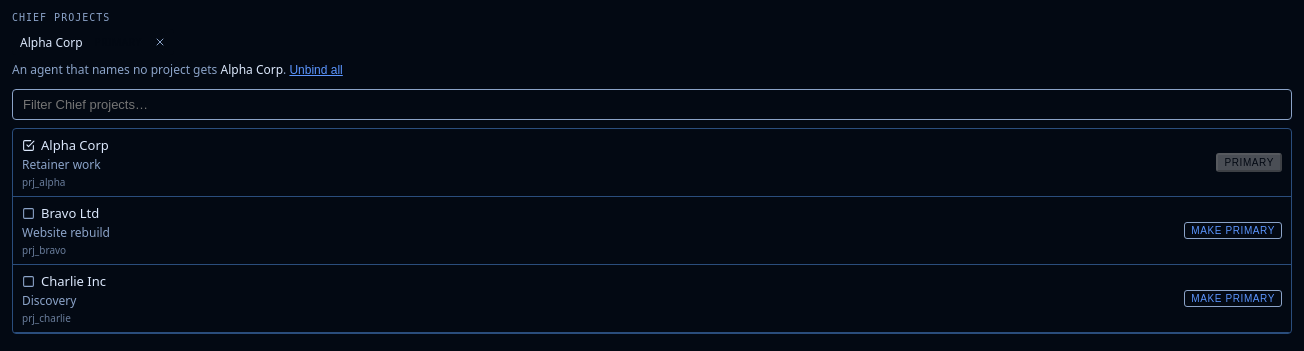
Test case: ChiefBindingPicker — the filter › a project filtered out of view is still shown as BOUND — reach never depends on scroll
In the field with test id "chief-binding-filter": (652, 104) [12,89,1292,120], type "bravo"
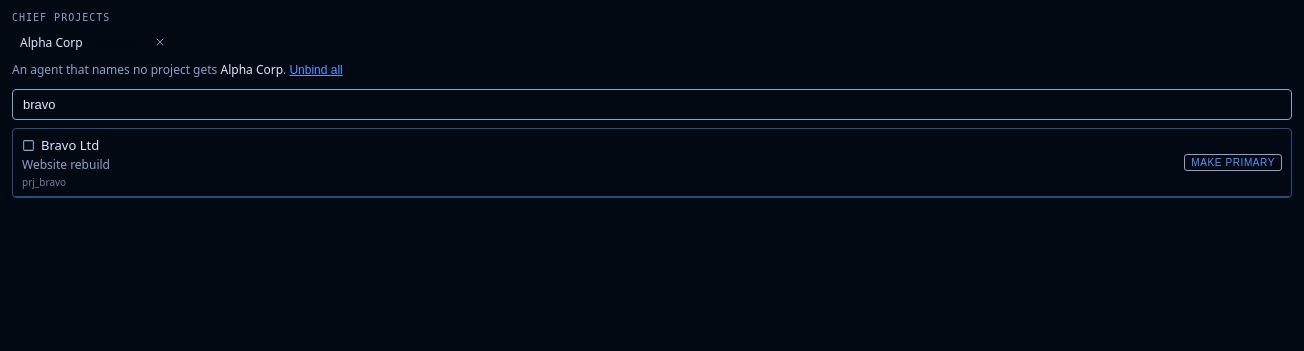
Check: the element with test id "chief-binding-chip-prj_alpha" is shown, box [12,29,174,55]
Check: the element with test id "chief-binding-row-prj_alpha" is gone
